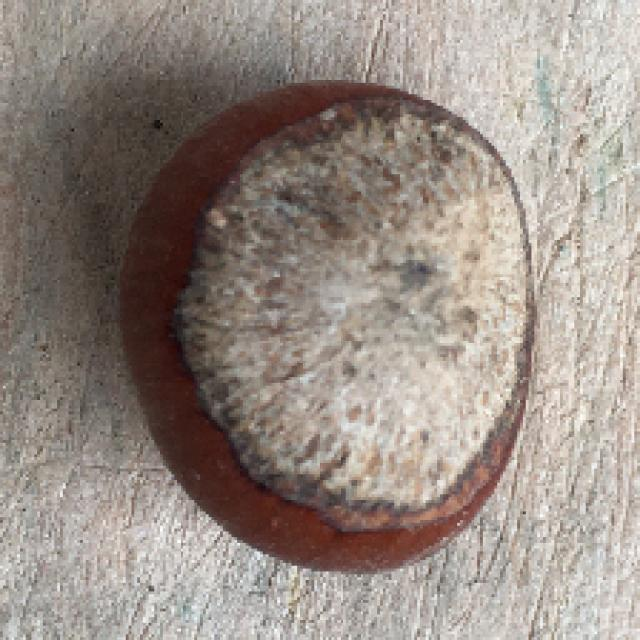qualityHazelnut: (99, 66, 542, 573)
